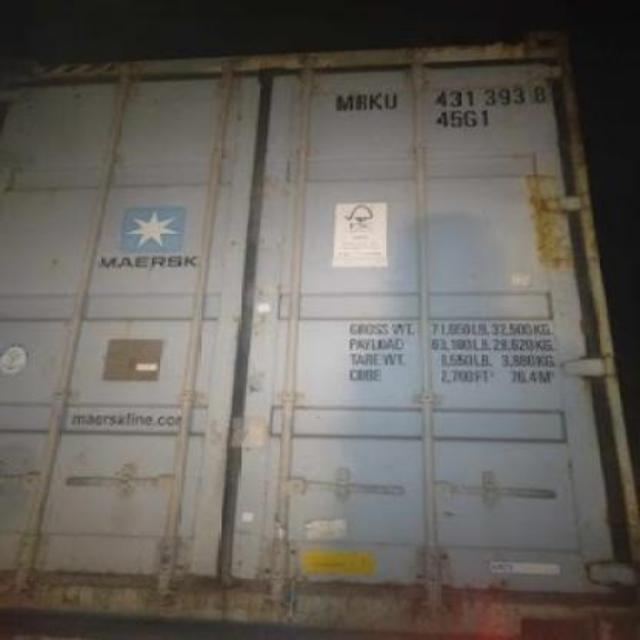1: (464, 88, 476, 109)
3: (512, 85, 526, 106), (448, 90, 464, 108), (484, 88, 496, 108)
4: (434, 88, 450, 110)
8: (534, 85, 548, 105)
9: (496, 88, 512, 108)
K: (368, 92, 384, 112)
M: (334, 92, 354, 112)
R: (354, 93, 368, 111)
U: (382, 93, 400, 111)
